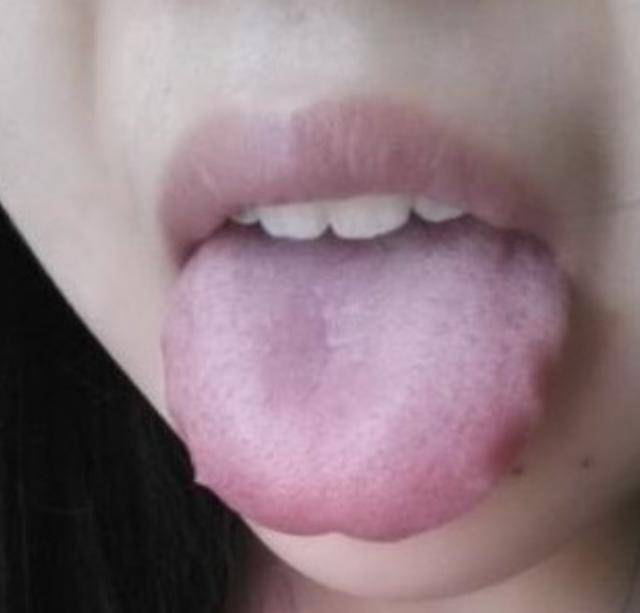baitaishe: (162, 225, 570, 541)
chihenshe: (481, 335, 564, 499)
pangdashe: (162, 225, 570, 541)
